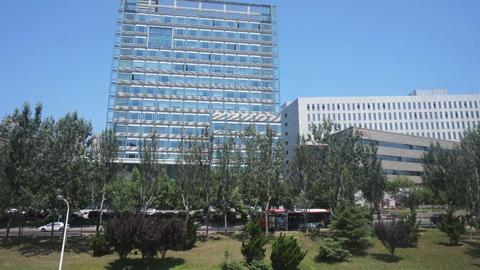UAV: (315, 143, 329, 149)
